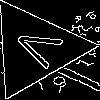V: (10, 23, 73, 74)
